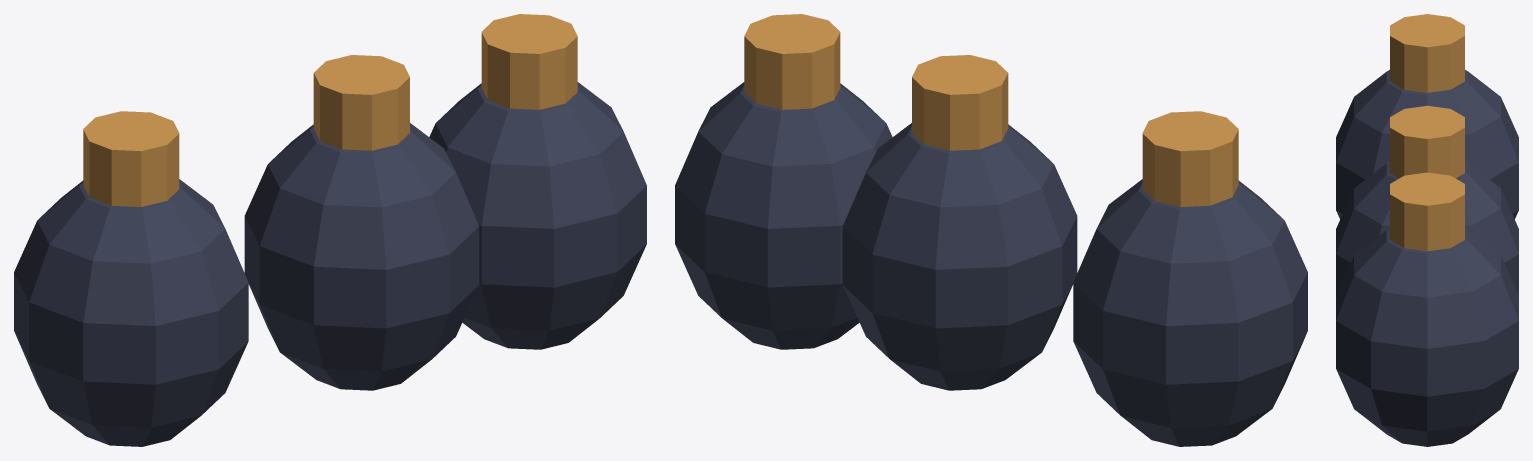
File: Cookware.fbx
3 renders of one model, left to right at view 1: azimuth 30°, elevation 25°; view 2: azimuth 150°, elevation 25°; view 3: azimuth 270°, elevation 25°, orthographic. The views are drawn at different scales.
Parts seen in each view (by area): view 1: Cookware.005; view 2: Cookware.005; view 3: Cookware.005.
Part boxes in pixels (x1,y1,x2,y2): Cookware.005: [14, 14, 646, 446]; Cookware.005: [675, 14, 1307, 446]; Cookware.005: [1336, 14, 1518, 446].
Size of the model in its own units: 57.5 by 28 by 18.54.
